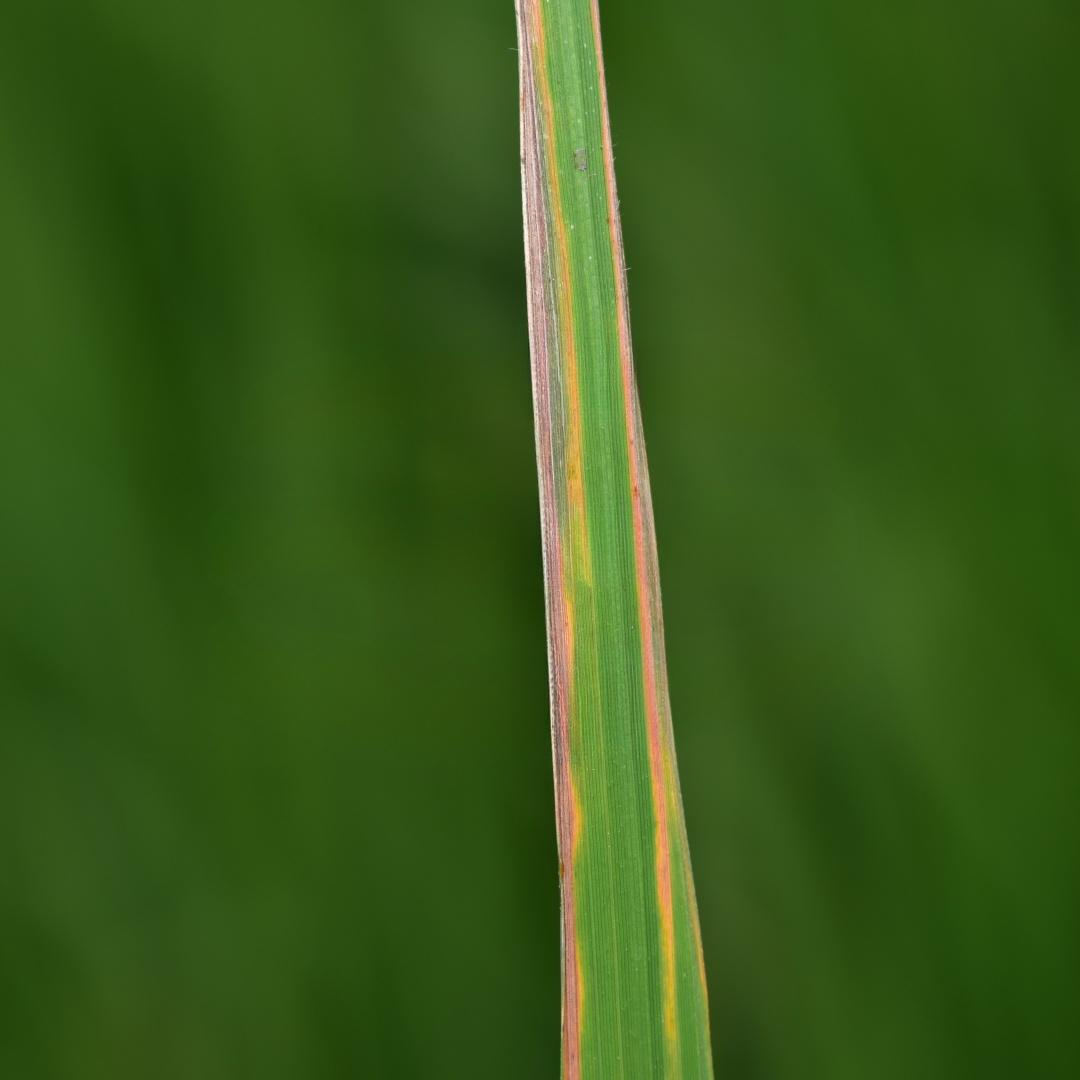BLB: (590, 0, 673, 901), (515, 0, 582, 1078)
LEAF: (515, 0, 712, 1079)
